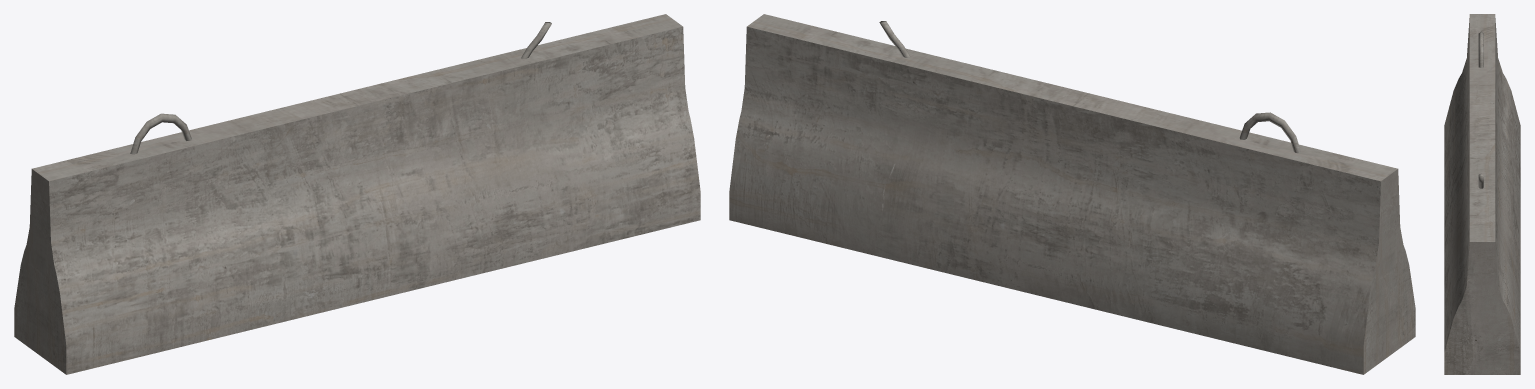
Rendered from ConcreteBrick.fbx.
The picture shows the model from 3 angles, left to right: view 1: azimuth 30°, elevation 25°; view 2: azimuth 150°, elevation 25°; view 3: azimuth 270°, elevation 25°; orthographic projection. The views are drawn at different scales.
Parts seen in each view (by area): view 1: concrete_concrete.003; view 2: concrete_concrete.003; view 3: concrete_concrete.003.
Boxes of the visible parts, bbox=[...] form: concrete_concrete.003: bbox=[14, 14, 700, 374]; concrete_concrete.003: bbox=[729, 14, 1415, 374]; concrete_concrete.003: bbox=[1444, 14, 1520, 374].
Size of the model in its own units: 352 by 113 by 50.04.
1 material, 1 textured.
